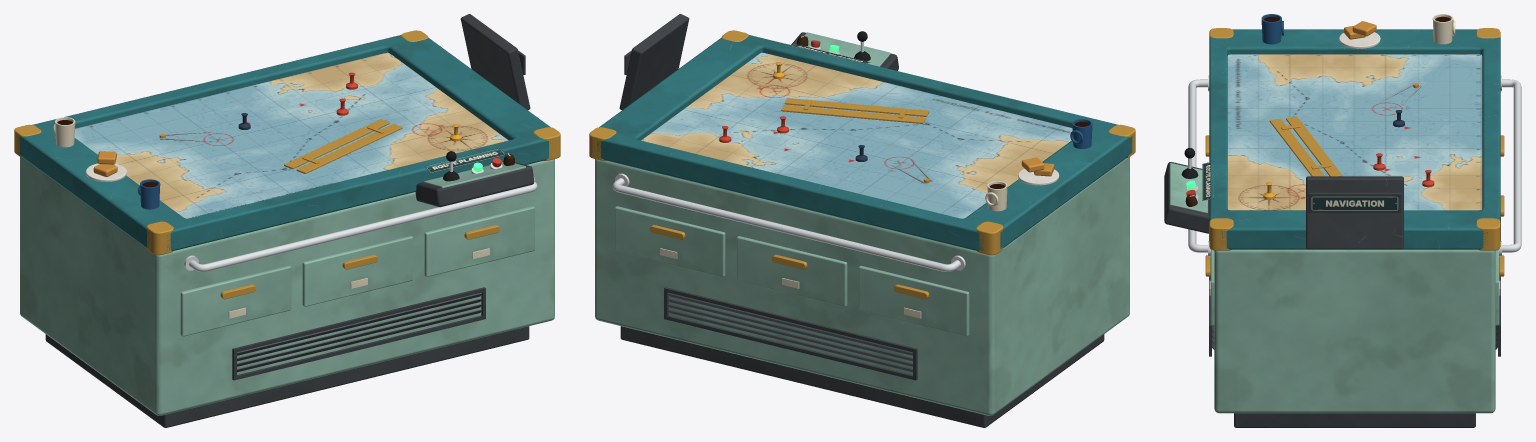
Rendered from NavTable.glb.
3 renders of one model, left to right at view 1: azimuth 30°, elevation 25°; view 2: azimuth 150°, elevation 25°; view 3: azimuth 270°, elevation 25°, orthographic.
Visible parts, largest first — view 1: NavTable_Body, NavTable_ParallelRuler; view 2: NavTable_Body, NavTable_ParallelRuler; view 3: NavTable_Body, NavTable_ParallelRuler.
Part boxes in pixels (box(x1,y1,x2,y2)): NavTable_Body: box(14, 14, 560, 427); NavTable_ParallelRuler: box(284, 119, 402, 173); NavTable_Body: box(589, 14, 1135, 427); NavTable_ParallelRuler: box(781, 98, 929, 123); NavTable_Body: box(1164, 14, 1521, 427); NavTable_ParallelRuler: box(1269, 116, 1342, 176).
Bounding box in the file's own units: 2.01 × 1.18 × 1.46.
Materials: 25 (13 with a texture image).
